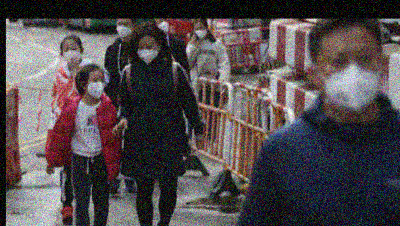with_mask: (318, 44, 380, 114), (136, 40, 158, 64), (86, 75, 105, 98), (62, 43, 81, 62), (115, 20, 132, 38), (193, 24, 207, 39), (156, 19, 169, 32)
